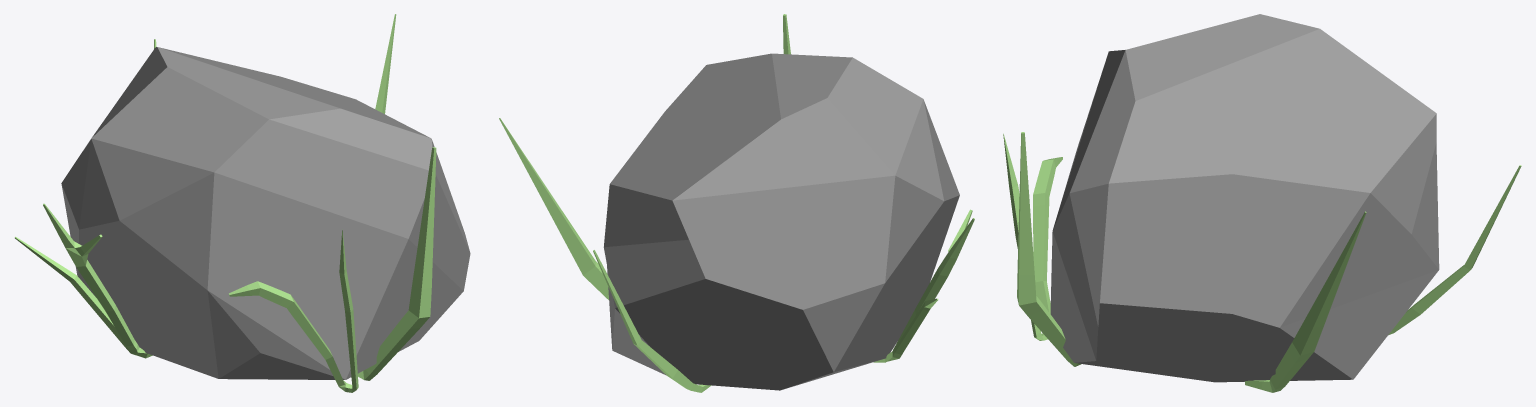
File: rock.glb
3 views of the same model, side by side, from view 1: azimuth 30°, elevation 25°; view 2: azimuth 150°, elevation 25°; view 3: azimuth 270°, elevation 25° (orthographic). The views are drawn at different scales.
Parts seen in each view (by area): view 1: rock_2, Vert.003_6, Vert_3, Vert.002_5, Vert.005_7; view 2: rock_2, Vert.005_7, Vert_3, Vert.001_4; view 3: rock_2, Vert.005_7, Vert.003_6, Vert.002_5, Vert.001_4.
Boxes of the visible parts, bbox=[...] form: rock_2: bbox=[61, 47, 470, 379]; Vert.003_6: bbox=[357, 147, 436, 380]; Vert_3: bbox=[15, 203, 152, 358]; Vert.002_5: bbox=[229, 229, 358, 392]; Vert.005_7: bbox=[375, 14, 396, 113]; rock_2: bbox=[603, 53, 959, 390]; Vert.005_7: bbox=[499, 118, 608, 299]; Vert_3: bbox=[873, 209, 974, 362]; Vert.001_4: bbox=[593, 250, 711, 392]; rock_2: bbox=[1050, 14, 1439, 382]; Vert.005_7: bbox=[1245, 211, 1366, 392]; Vert.003_6: bbox=[1017, 132, 1081, 366]; Vert.002_5: bbox=[1003, 133, 1062, 340]; Vert.001_4: bbox=[1388, 165, 1521, 335].
Size of the model in its own units: 1.67 by 1.07 by 1.71.
